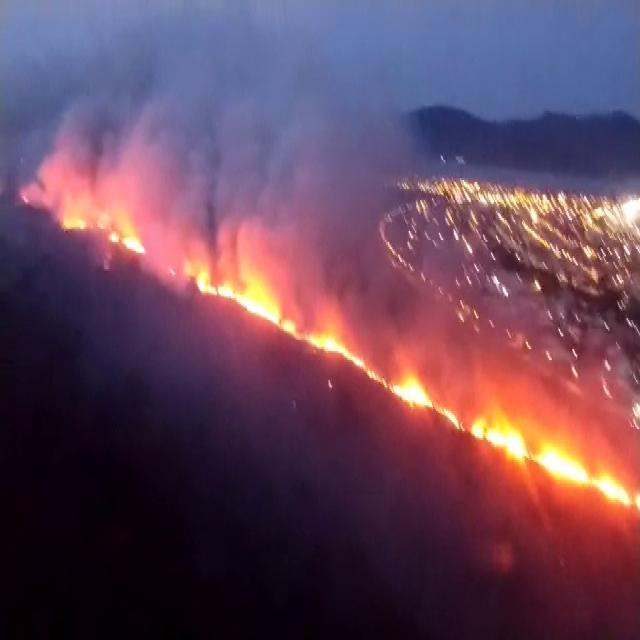Fire: (534, 448, 586, 476), (484, 422, 528, 454), (246, 282, 276, 322), (306, 326, 344, 352), (392, 377, 428, 402), (194, 264, 212, 300), (119, 228, 143, 254)
